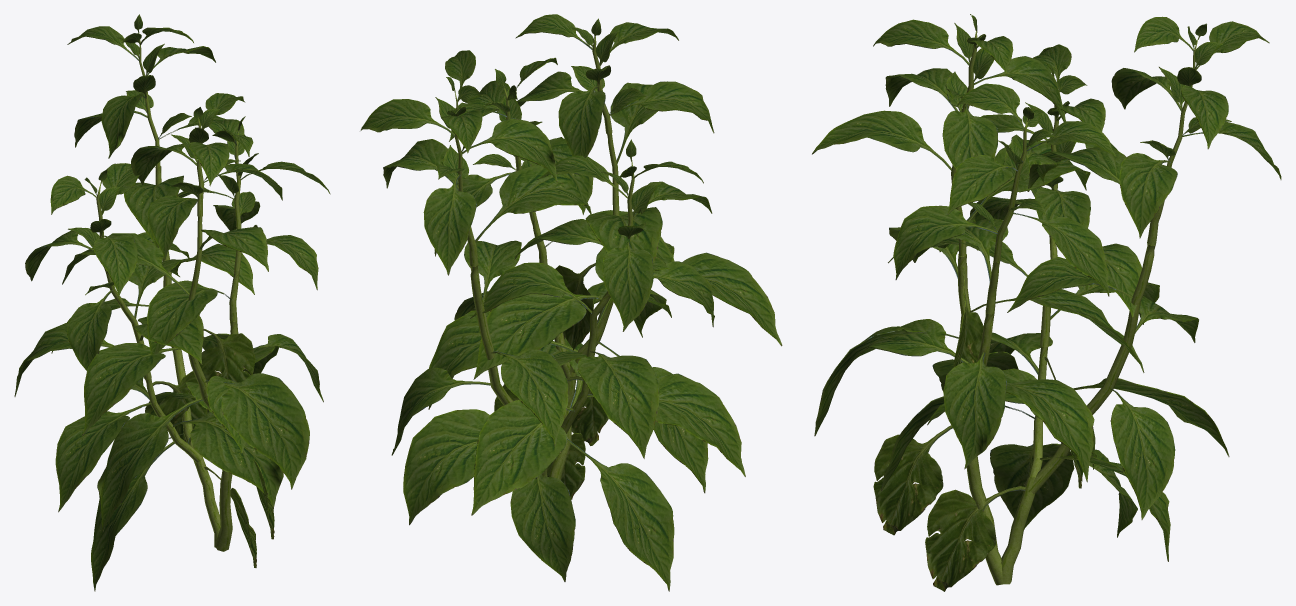
File: VG07_6_no_fruits.dae
3 renders of one model, left to right at view 1: azimuth 30°, elevation 25°; view 2: azimuth 150°, elevation 25°; view 3: azimuth 270°, elevation 25°, orthographic. The views are drawn at different scales.
Parts seen in each view (by area): view 1: VG07_6; view 2: VG07_6; view 3: VG07_6.
Part boxes in pixels (<box>): VG07_6: <box>14,14,330,591</box>; VG07_6: <box>360,14,782,591</box>; VG07_6: <box>812,14,1281,591</box>.
Bounding box in the file's own units: 18.33 × 23.83 × 32.95.
Materials: 3 (3 with a texture image).
